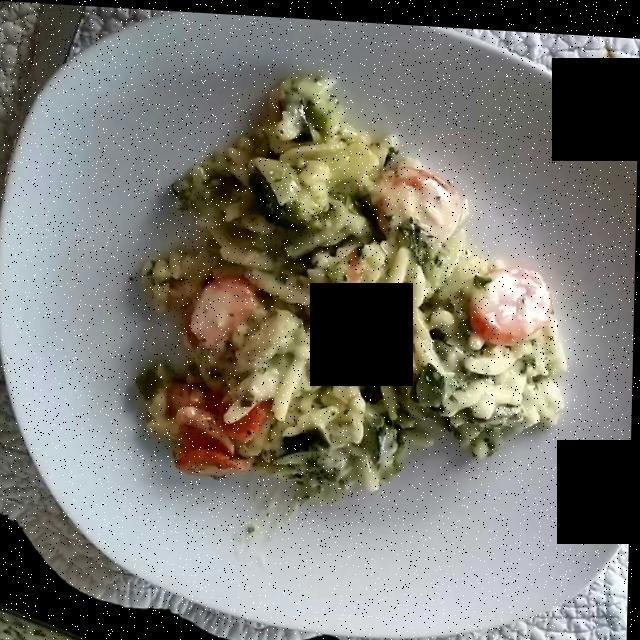pasta: (115, 72, 578, 520)
tomato: (166, 382, 269, 482), (390, 156, 463, 252), (479, 270, 551, 338), (190, 276, 257, 346)
